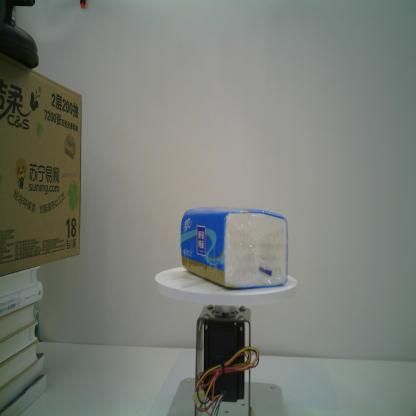Tissue: (180, 206, 290, 290)
